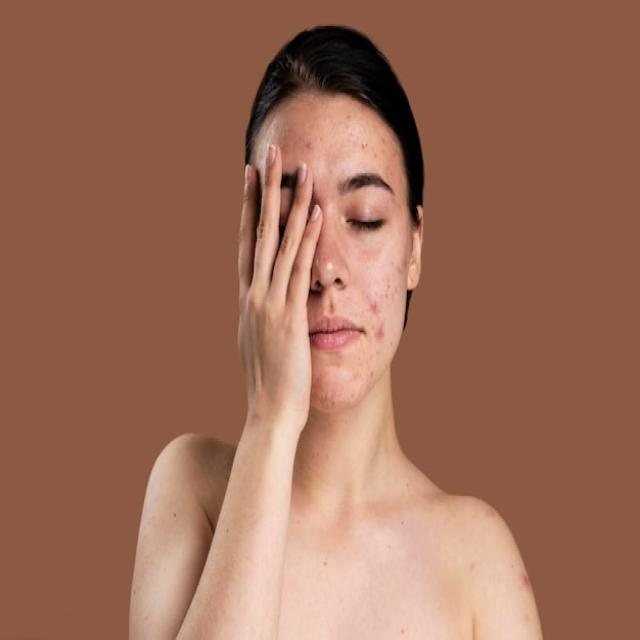papule: (348, 348, 384, 401), (377, 251, 409, 308), (357, 133, 397, 168), (318, 390, 338, 410), (371, 323, 388, 343), (368, 299, 381, 318), (344, 112, 353, 122), (387, 336, 394, 348)
pustule: (304, 135, 315, 154)
